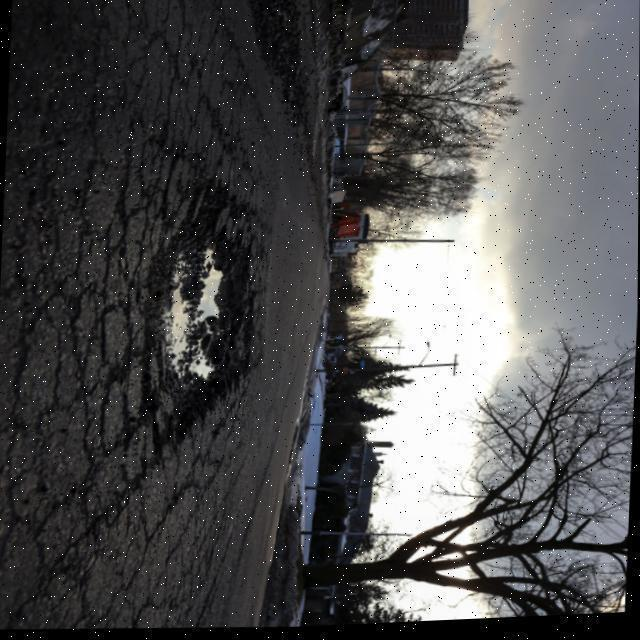Pothole: (149, 225, 265, 415)
